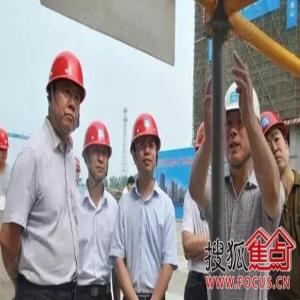red: (47, 50, 85, 141), (258, 106, 290, 181), (129, 113, 161, 182), (82, 119, 112, 185), (2, 128, 11, 175)
white: (223, 76, 261, 173)
